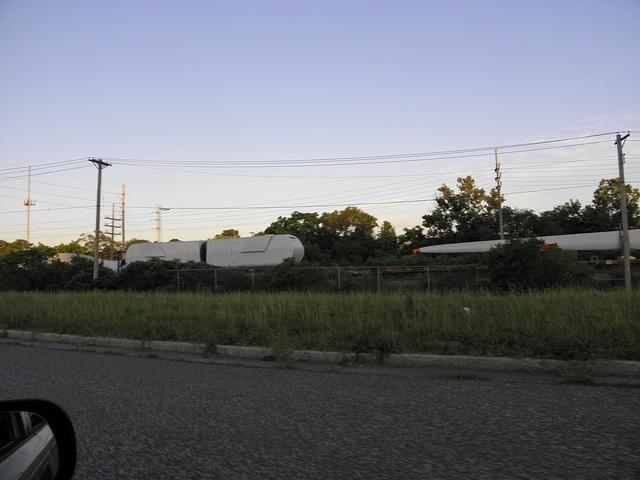car: (0, 398, 76, 480)
